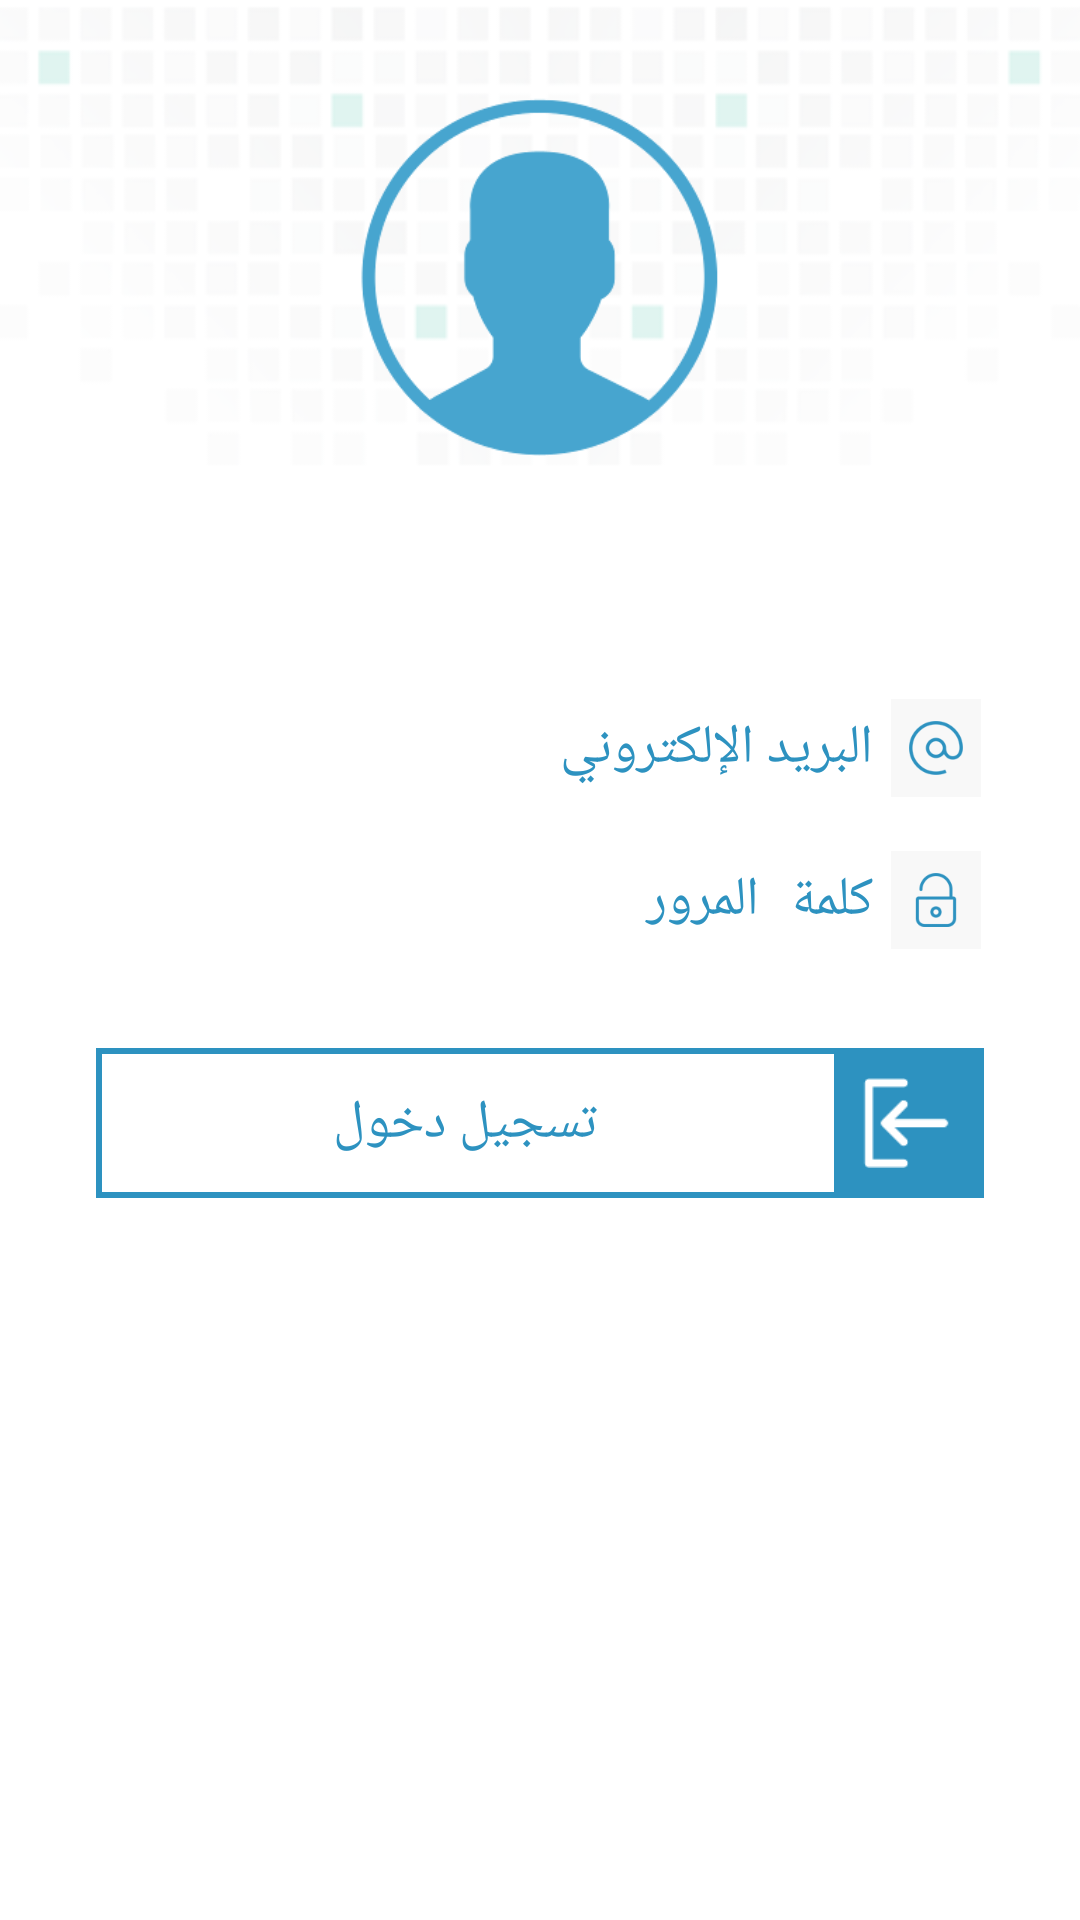

Icons on this 1080x1920 Android screen, each with its box as (x1, y1, x2, y2):
log: (864, 1078, 949, 1168)
login user: (361, 99, 718, 456)
mail: (909, 721, 963, 775)
pass: (915, 873, 957, 927)
